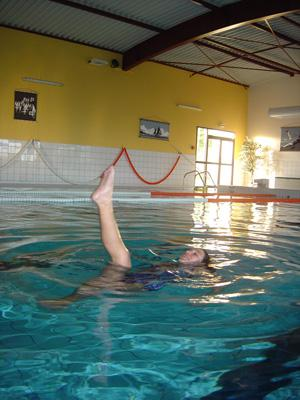human: (90, 163, 220, 300)
